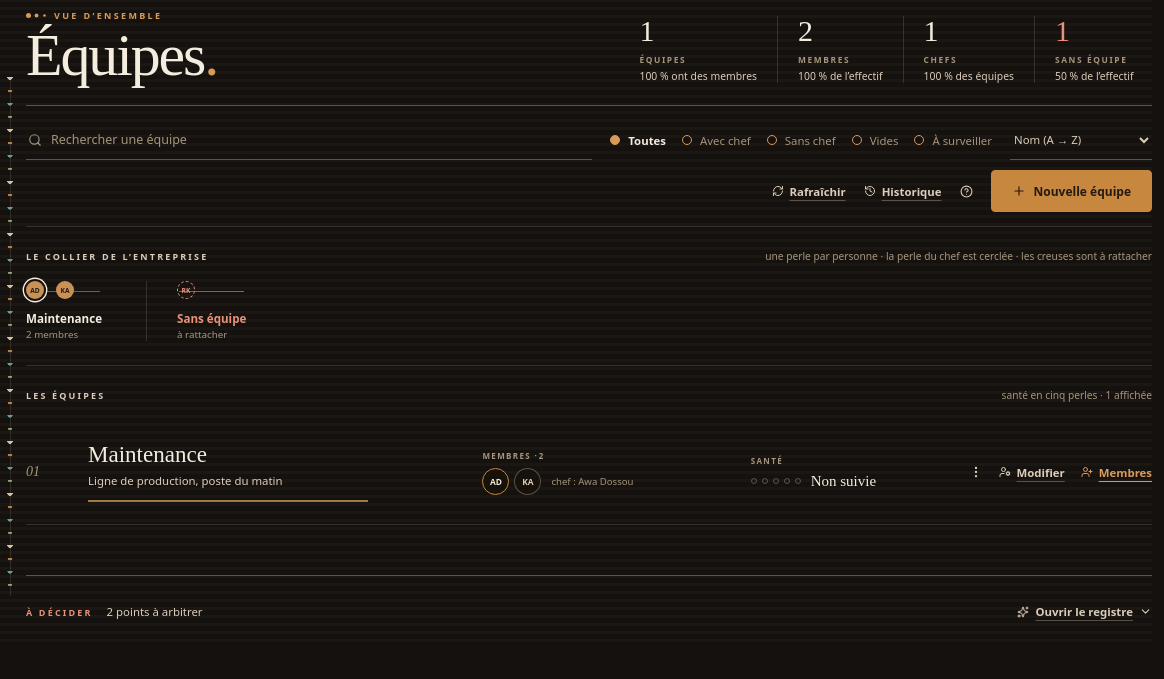
Scenario: la vue Équipes › range les décisions dans un pied dépliable, pas dans une bannière qui hurle
Check: the footer with class "rg-pied" shows "À décider", box [26, 606, 93, 620]
Check: the footer with class "rg-pied" shows "2 points à arbitrer", box [107, 604, 203, 620]
Click the button "Ouvrir le registre". click: x=1085, y=612
box: [1017, 592, 1152, 632]
(page scrolled)
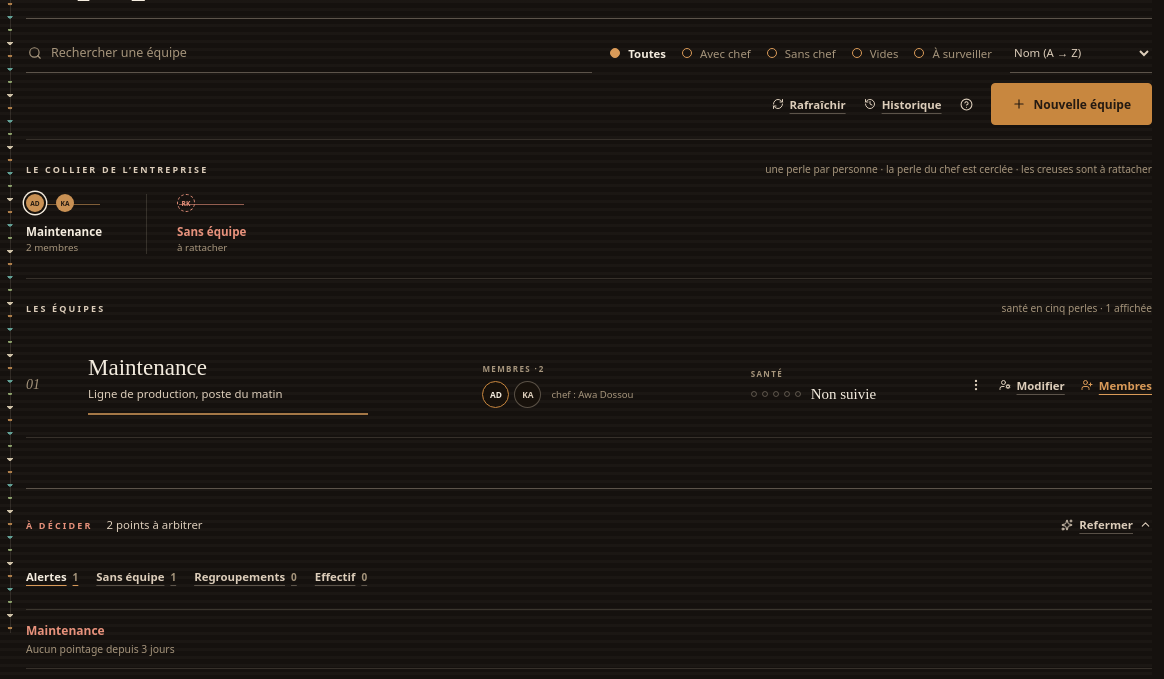
Check: the footer with class "rg-pied" shows "Aucun pointage depuis 3 jours", box [26, 642, 175, 656]
Click the button "Sans équipe 1". click: x=136, y=577
box: [96, 557, 176, 597]
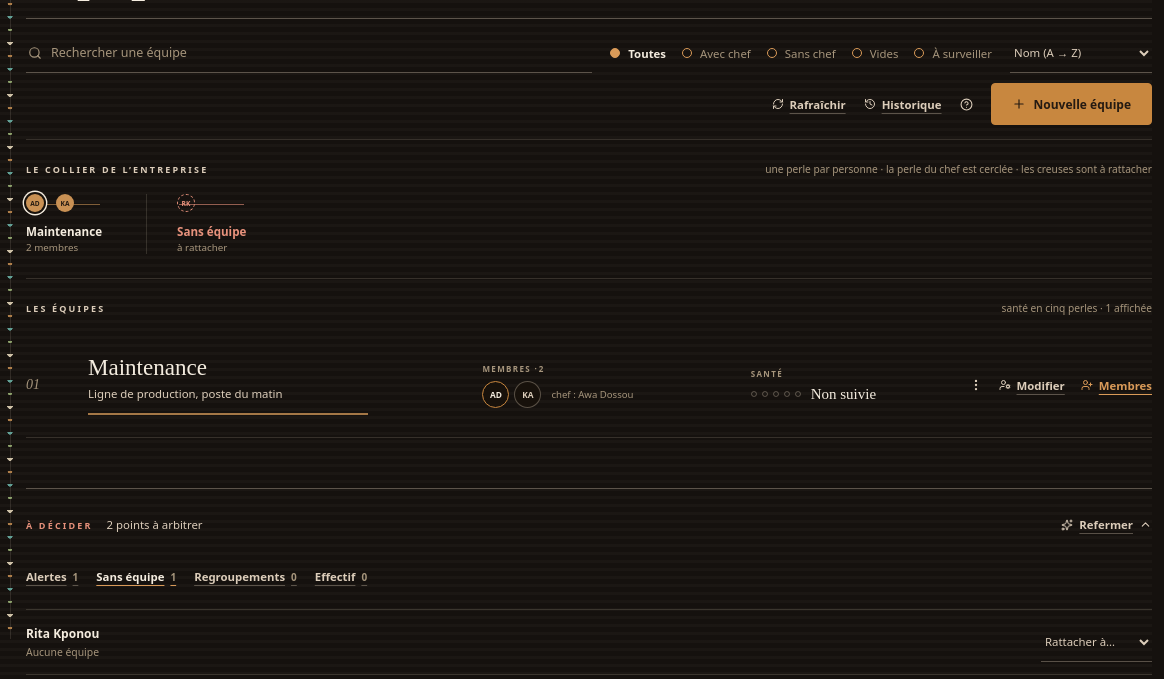
Check: the footer with class "rg-pied" shows "Rita Kponou", box [26, 625, 99, 642]
